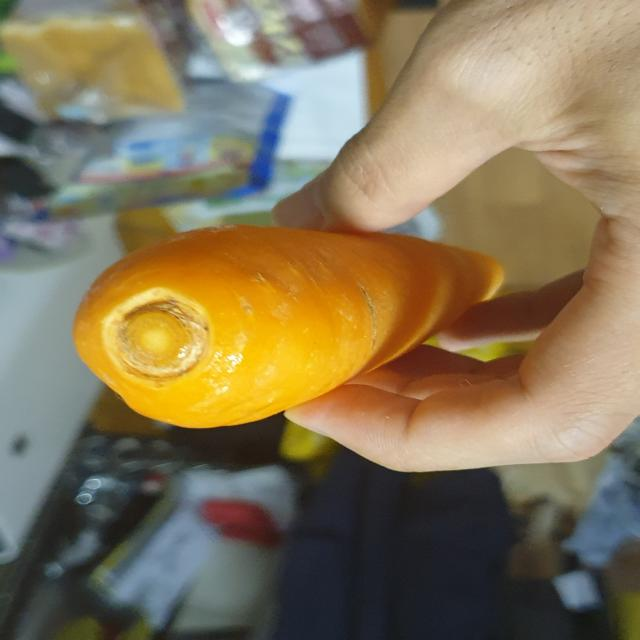Carrot: (60, 220, 515, 430)
